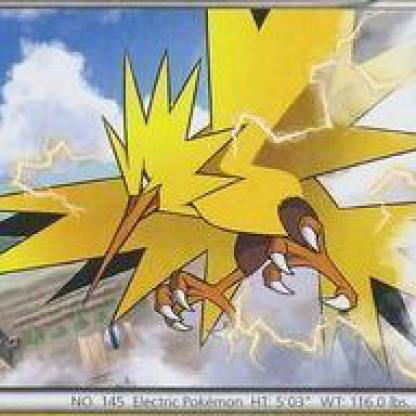Zapdos: (1, 16, 415, 361)
